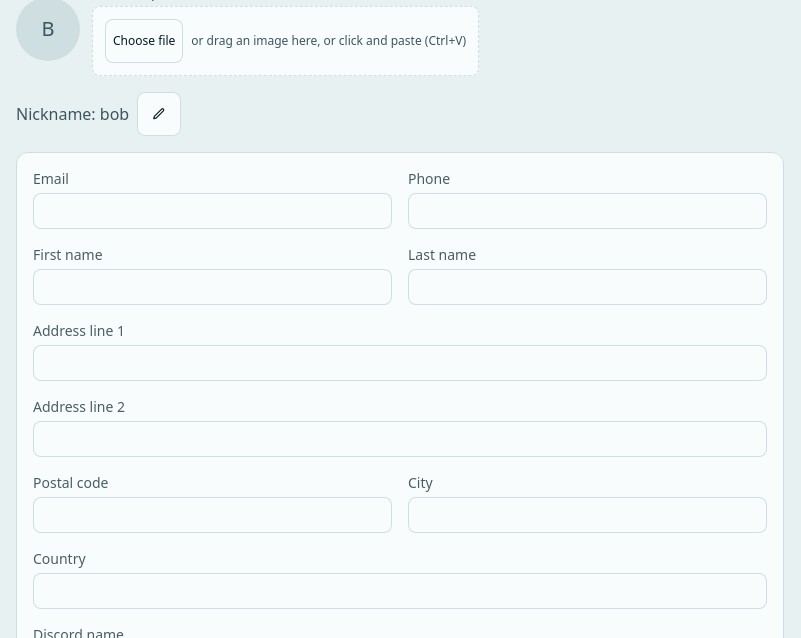
Test: ProfilePage › rejects an invalid email
The width and height of the screenshot is (801, 638).
Expected: the text "Nickname: bob" is shown, [16,102,129,126]
Type "not-an-email" into the field labelled "Email" at [212, 211], box [33,193,392,229]
(page scrolled)
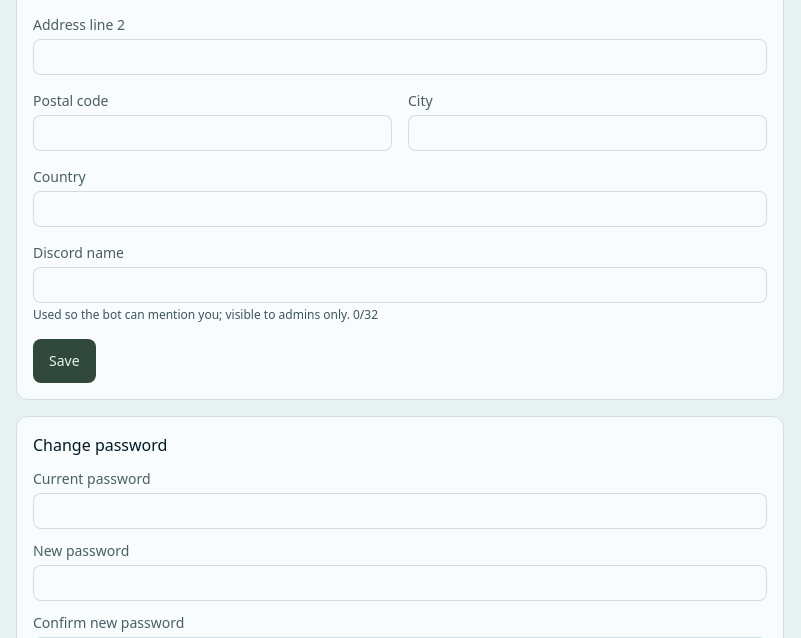
Click the button "Save" at [64, 361], box [33,339,96,383]
(page scrolled)
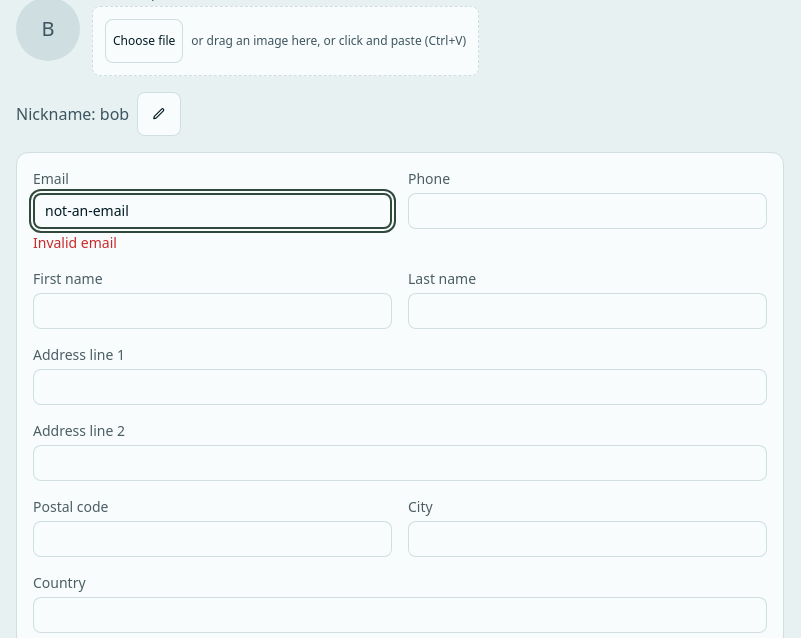
Result: the text "Invalid email" is shown at [33,233,117,252]
